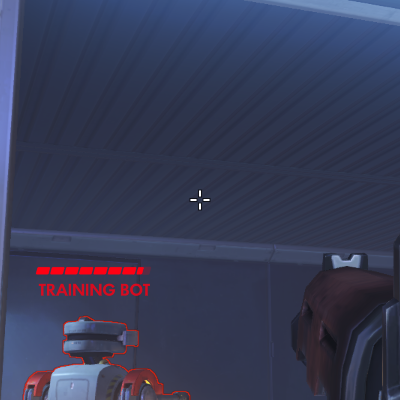hpbar: (35, 266, 152, 275)
